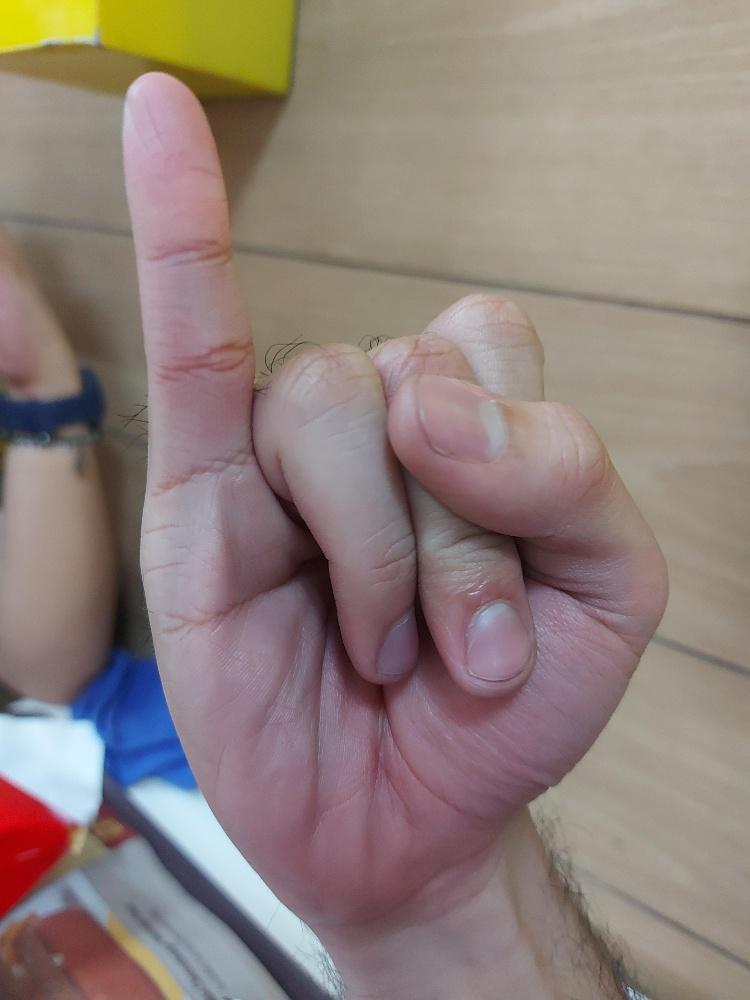i: (118, 64, 673, 933)
